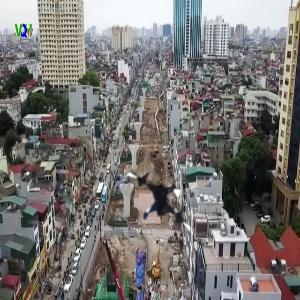drone: (107, 165, 203, 261)
